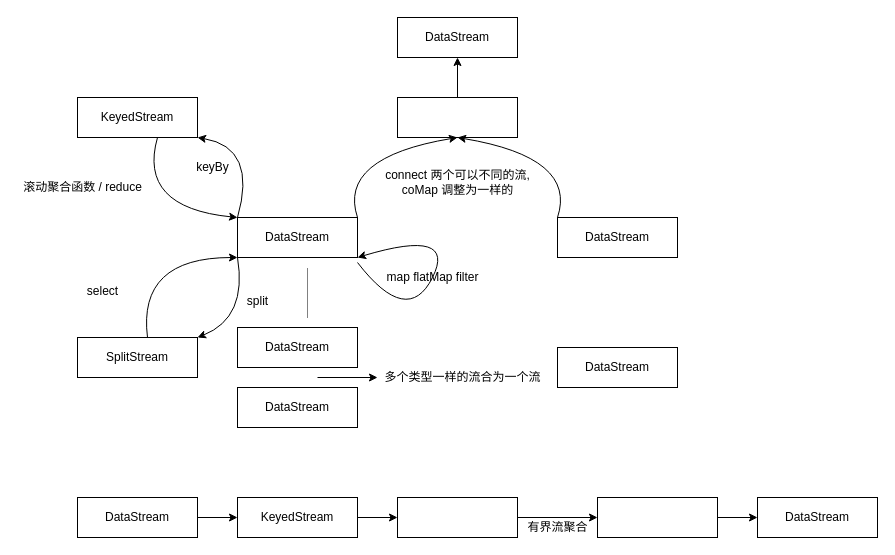
Some shapes in this 895 by 555 pixel diagram are drawn without their labels. The box of each missing label's shape, as (x1, y1, x2, y2) in pixels:
ConnectedDStream: (396, 96, 518, 138)
windowedStream: (396, 496, 518, 538)
窗口函数: (596, 496, 718, 538)
